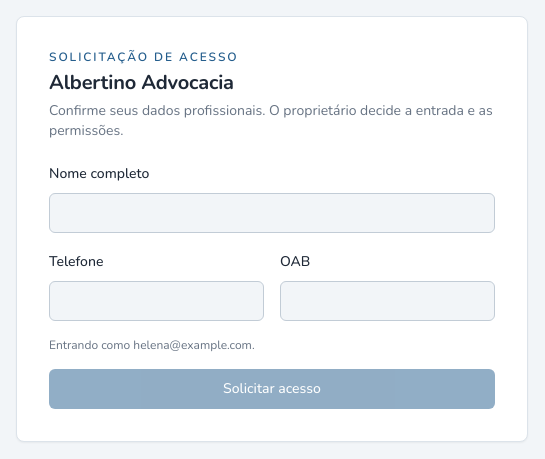
Scenario: Solicitar acesso › envia a solicitação e mostra o estado de espera
The width and height of the screenshot is (545, 459).
Type "Helena Souza" into the field labelled "Nome completo" at (272, 213), box [49,193,495,233]
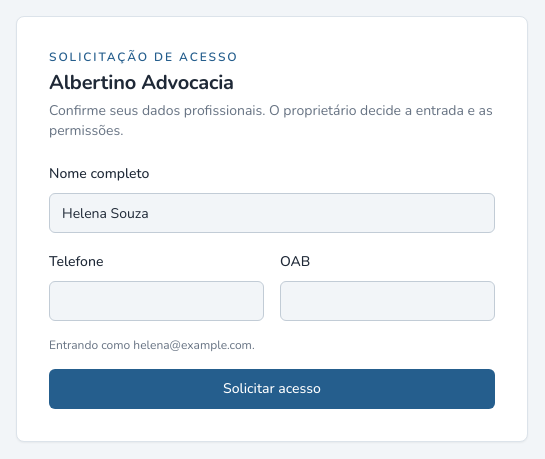
Type "AM-1234" into the field labelled "OAB" at (388, 301), box [280,281,495,321]
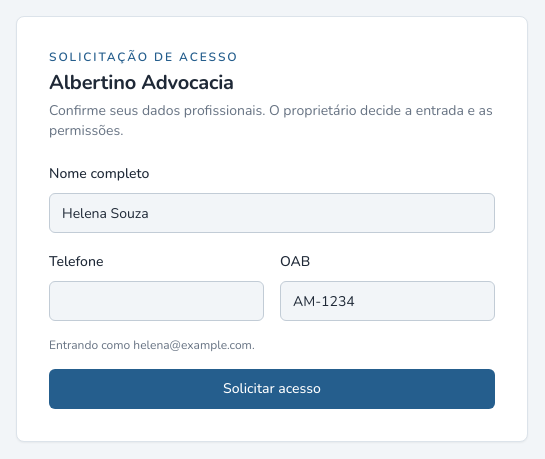
Click the button "Solicitar acesso" at (272, 389), box [49,369,495,409]
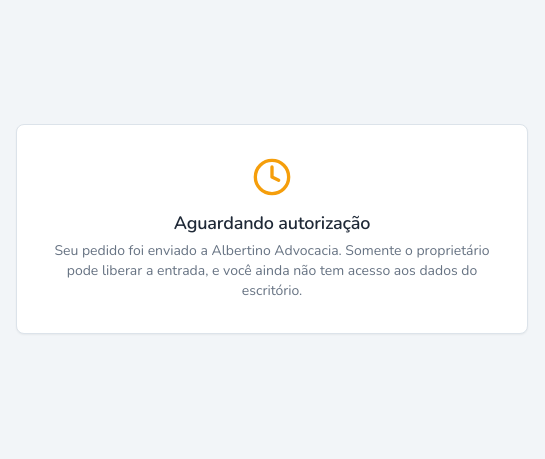
Now the heading "Aguardando autorização" is shown, box [174,211,370,235]
